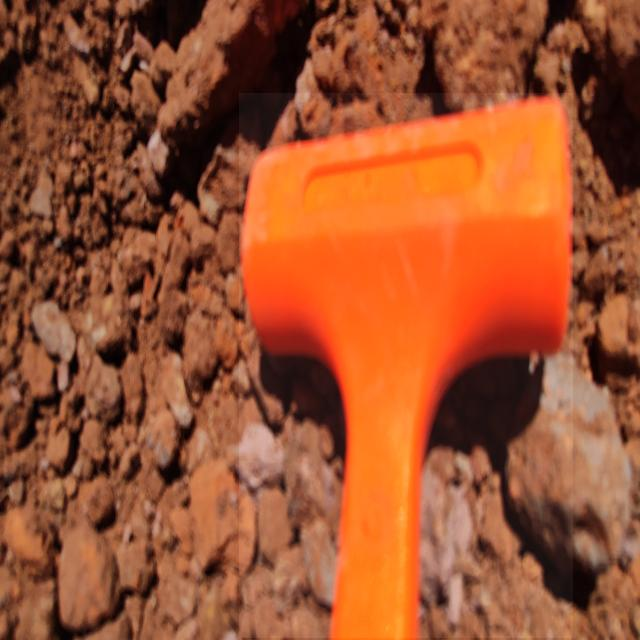Orange_hammer: (239, 93, 573, 638)
